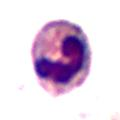monocyte: (26, 15, 94, 96)
